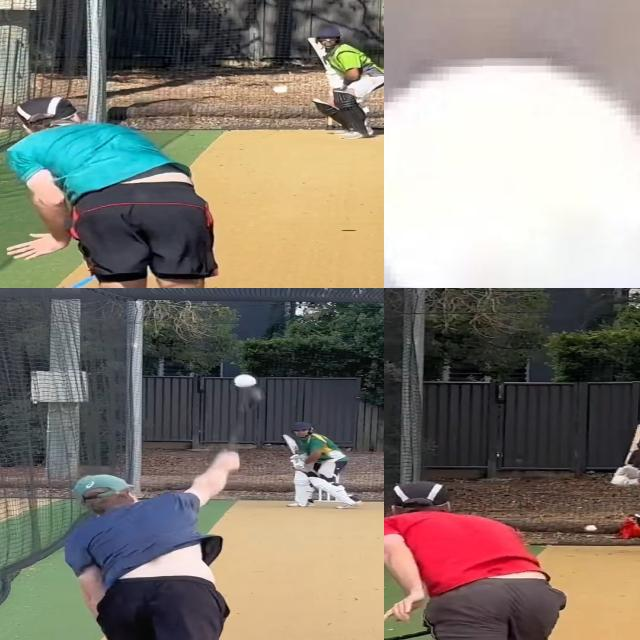Cricket ball: (384, 51, 640, 288), (230, 372, 260, 390), (269, 82, 293, 98), (585, 525, 600, 534)
